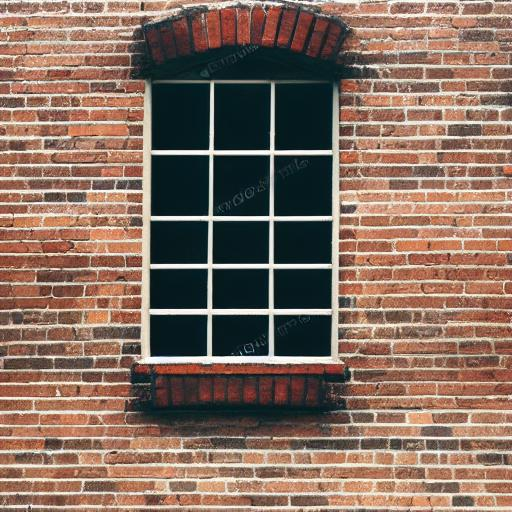Window: (129, 1, 355, 412)
